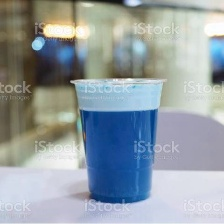glass: (65, 68, 181, 207)
